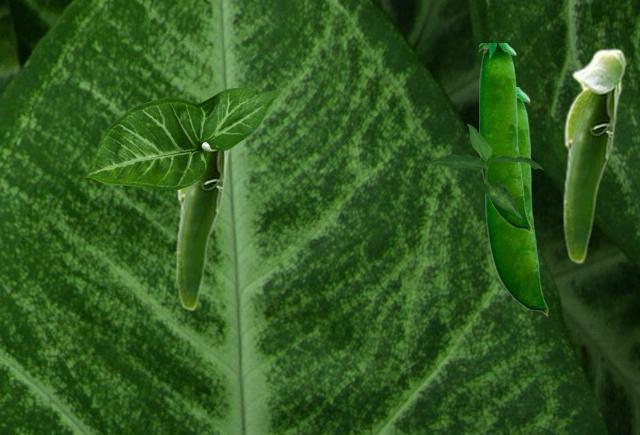pea: (485, 87, 547, 315), (562, 48, 626, 263), (175, 143, 234, 310), (479, 43, 530, 232)
